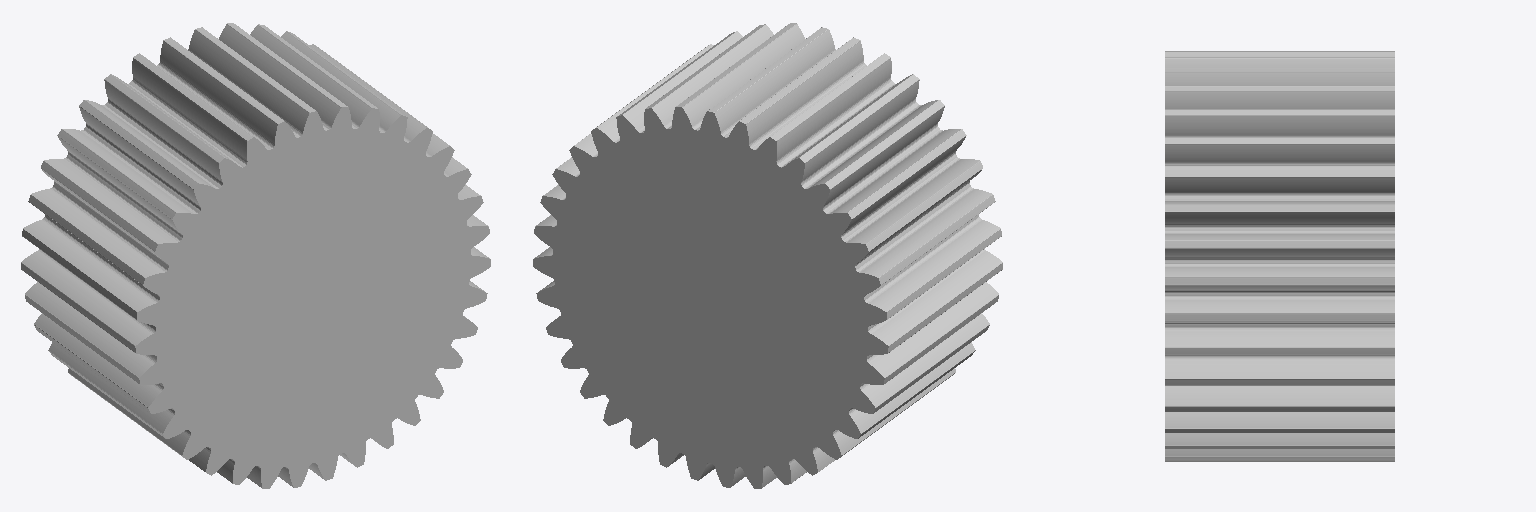
File: planet.obj
3 renders of one model, left to right at view 1: azimuth 30°, elevation 25°; view 2: azimuth 150°, elevation 25°; view 3: azimuth 270°, elevation 25°, orthographic.
Visible parts, largest first — view 1: 1; view 2: 1; view 3: 1.
Part boxes in pixels (x1,y1,x2,y2): 1: (21,23,490,488); 1: (533,23,1002,488); 1: (1165,51,1394,461).
Bounding box in the file's own units: 376 × 376 × 210.